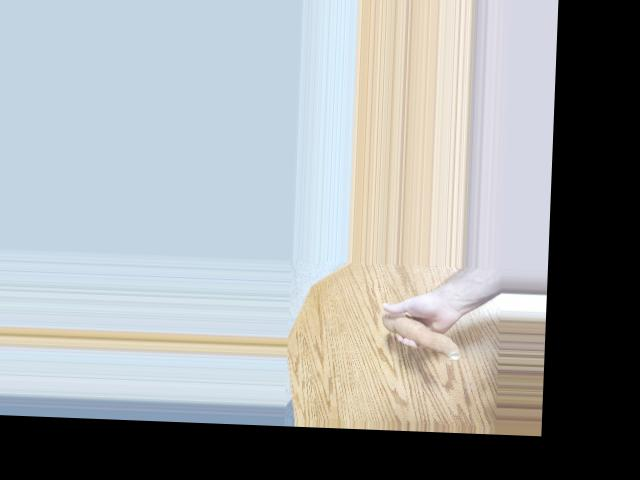sweet_potato: (377, 315, 463, 359)
